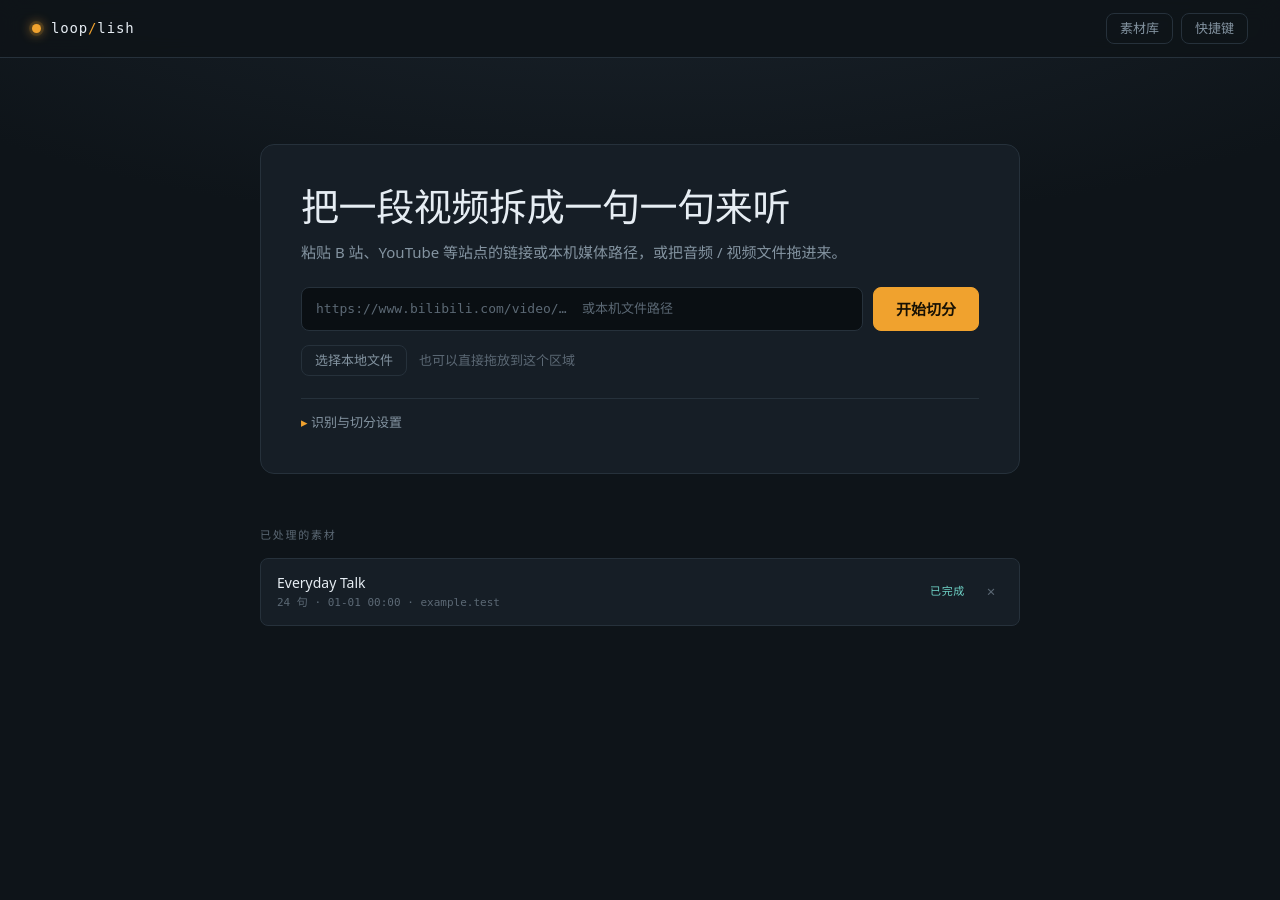
Test: job list › opens the practice page for a succeeded job
The width and height of the screenshot is (1280, 900).
What coordinates should you click on to do the following:
click the link "Everyday Talk"
I would click on:
 (321, 583)
Its box is [277,573,366,592].
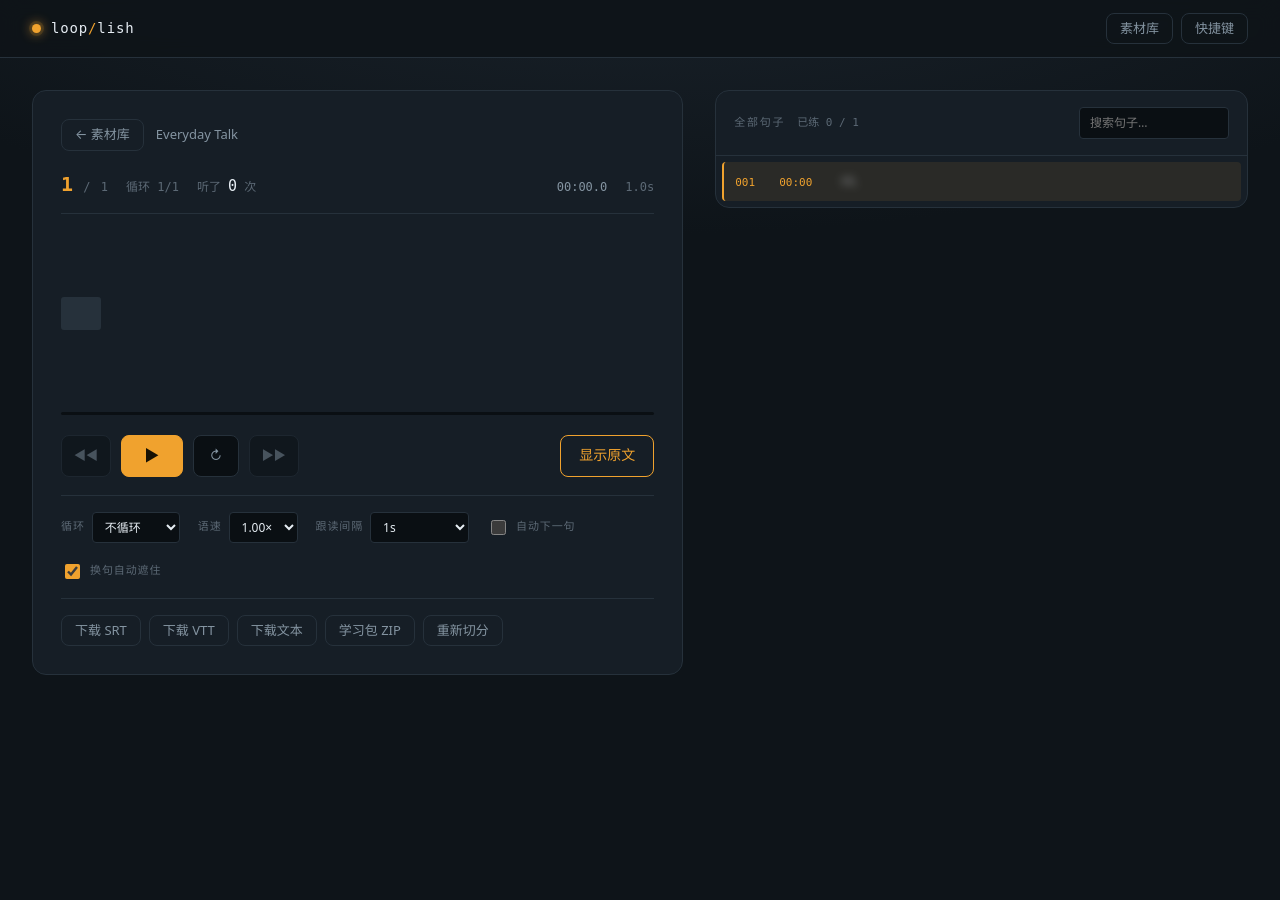
Check: the heading named "第 1 / 1 句" is shown, box [61,169,108,199]
